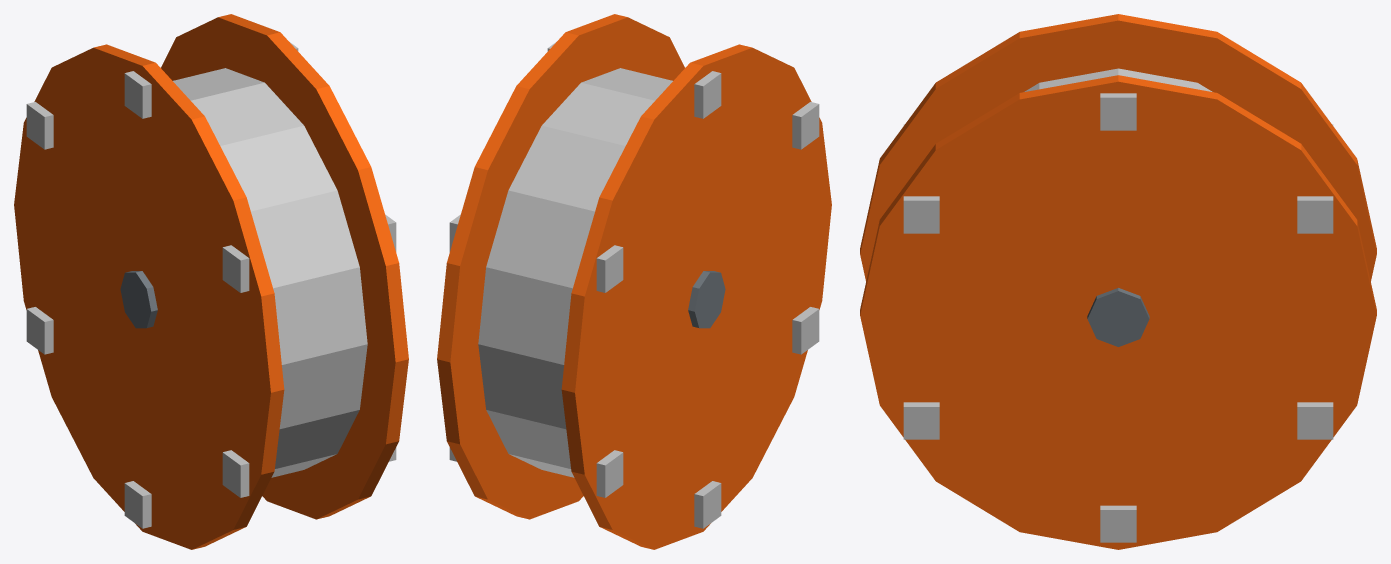
Rendered from body.obj.
The picture shows the model from 3 angles, left to right: view 1: azimuth 30°, elevation 25°; view 2: azimuth 150°, elevation 25°; view 3: azimuth 270°, elevation 25°; orthographic projection.
Bounding box in the file's own units: 0.35 × 1 × 1.
